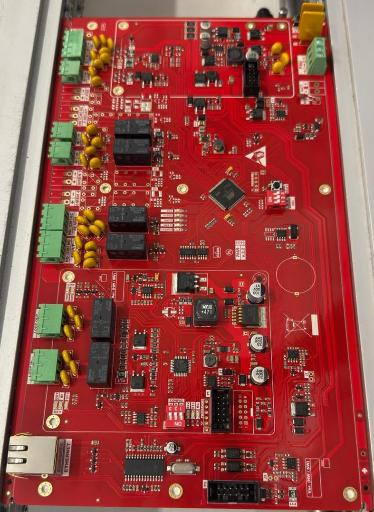var: (298, 3, 326, 43), (272, 52, 289, 74), (89, 157, 102, 170), (66, 304, 76, 320), (94, 220, 106, 233), (77, 225, 90, 237), (91, 137, 104, 149), (84, 241, 98, 252), (64, 324, 74, 339), (62, 349, 72, 364), (83, 251, 98, 261), (60, 370, 70, 385), (69, 360, 79, 375), (83, 209, 95, 221), (86, 124, 98, 136), (89, 225, 101, 237), (271, 42, 282, 55), (90, 76, 103, 87), (83, 258, 97, 268), (79, 153, 88, 168), (74, 235, 83, 249), (74, 315, 83, 329), (76, 216, 88, 226), (85, 146, 97, 156), (81, 133, 90, 146), (73, 251, 81, 265)
